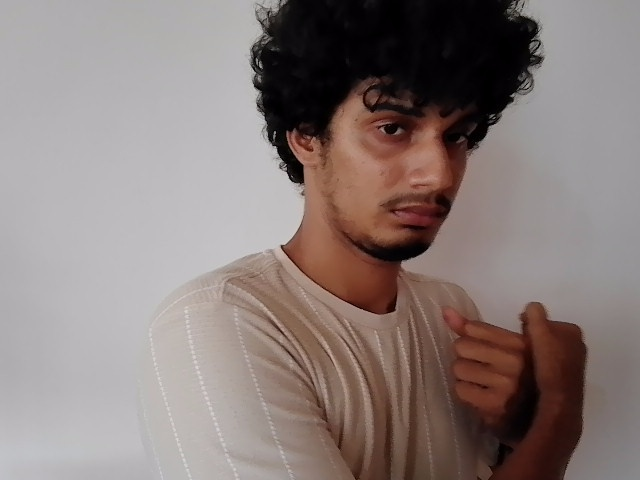love: (432, 304, 584, 438)
